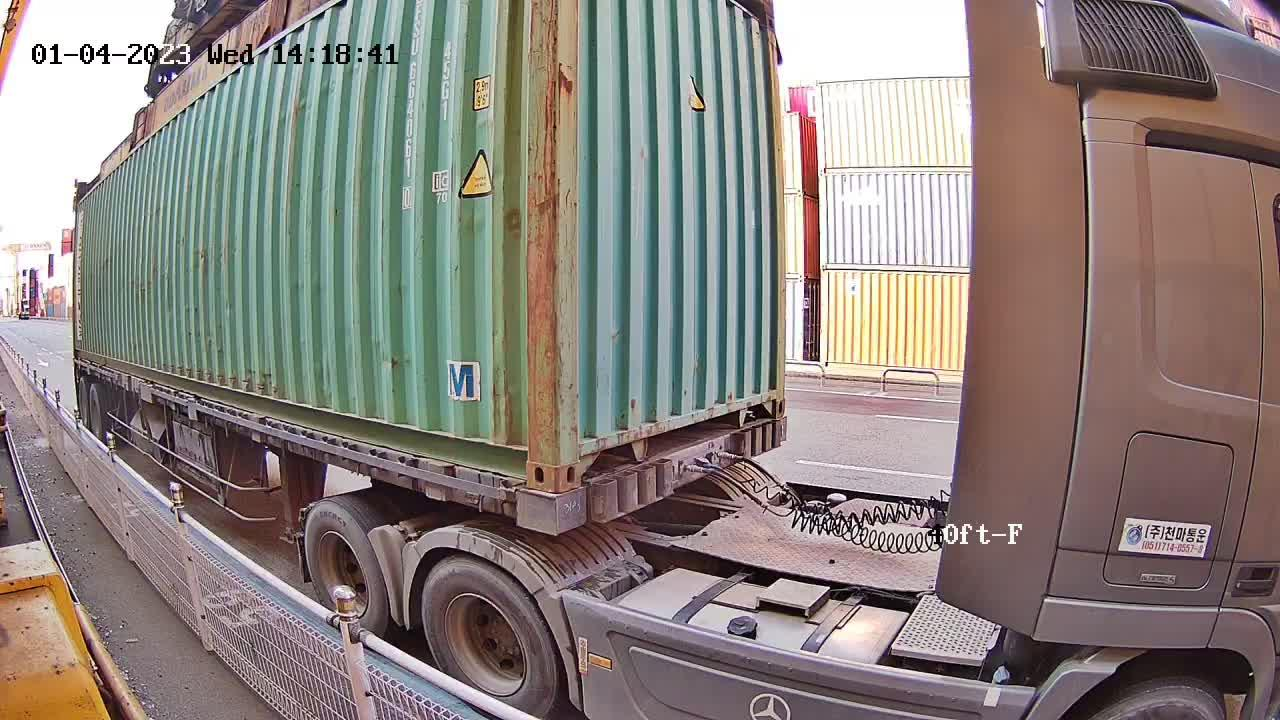Chassis: (531, 418, 783, 539)
Cone: (531, 491, 557, 536)
Hole_L: (557, 409, 610, 493)
Hole_R: (497, 416, 556, 494), (749, 371, 787, 423)
Tire: (423, 559, 553, 716), (304, 502, 388, 640)
